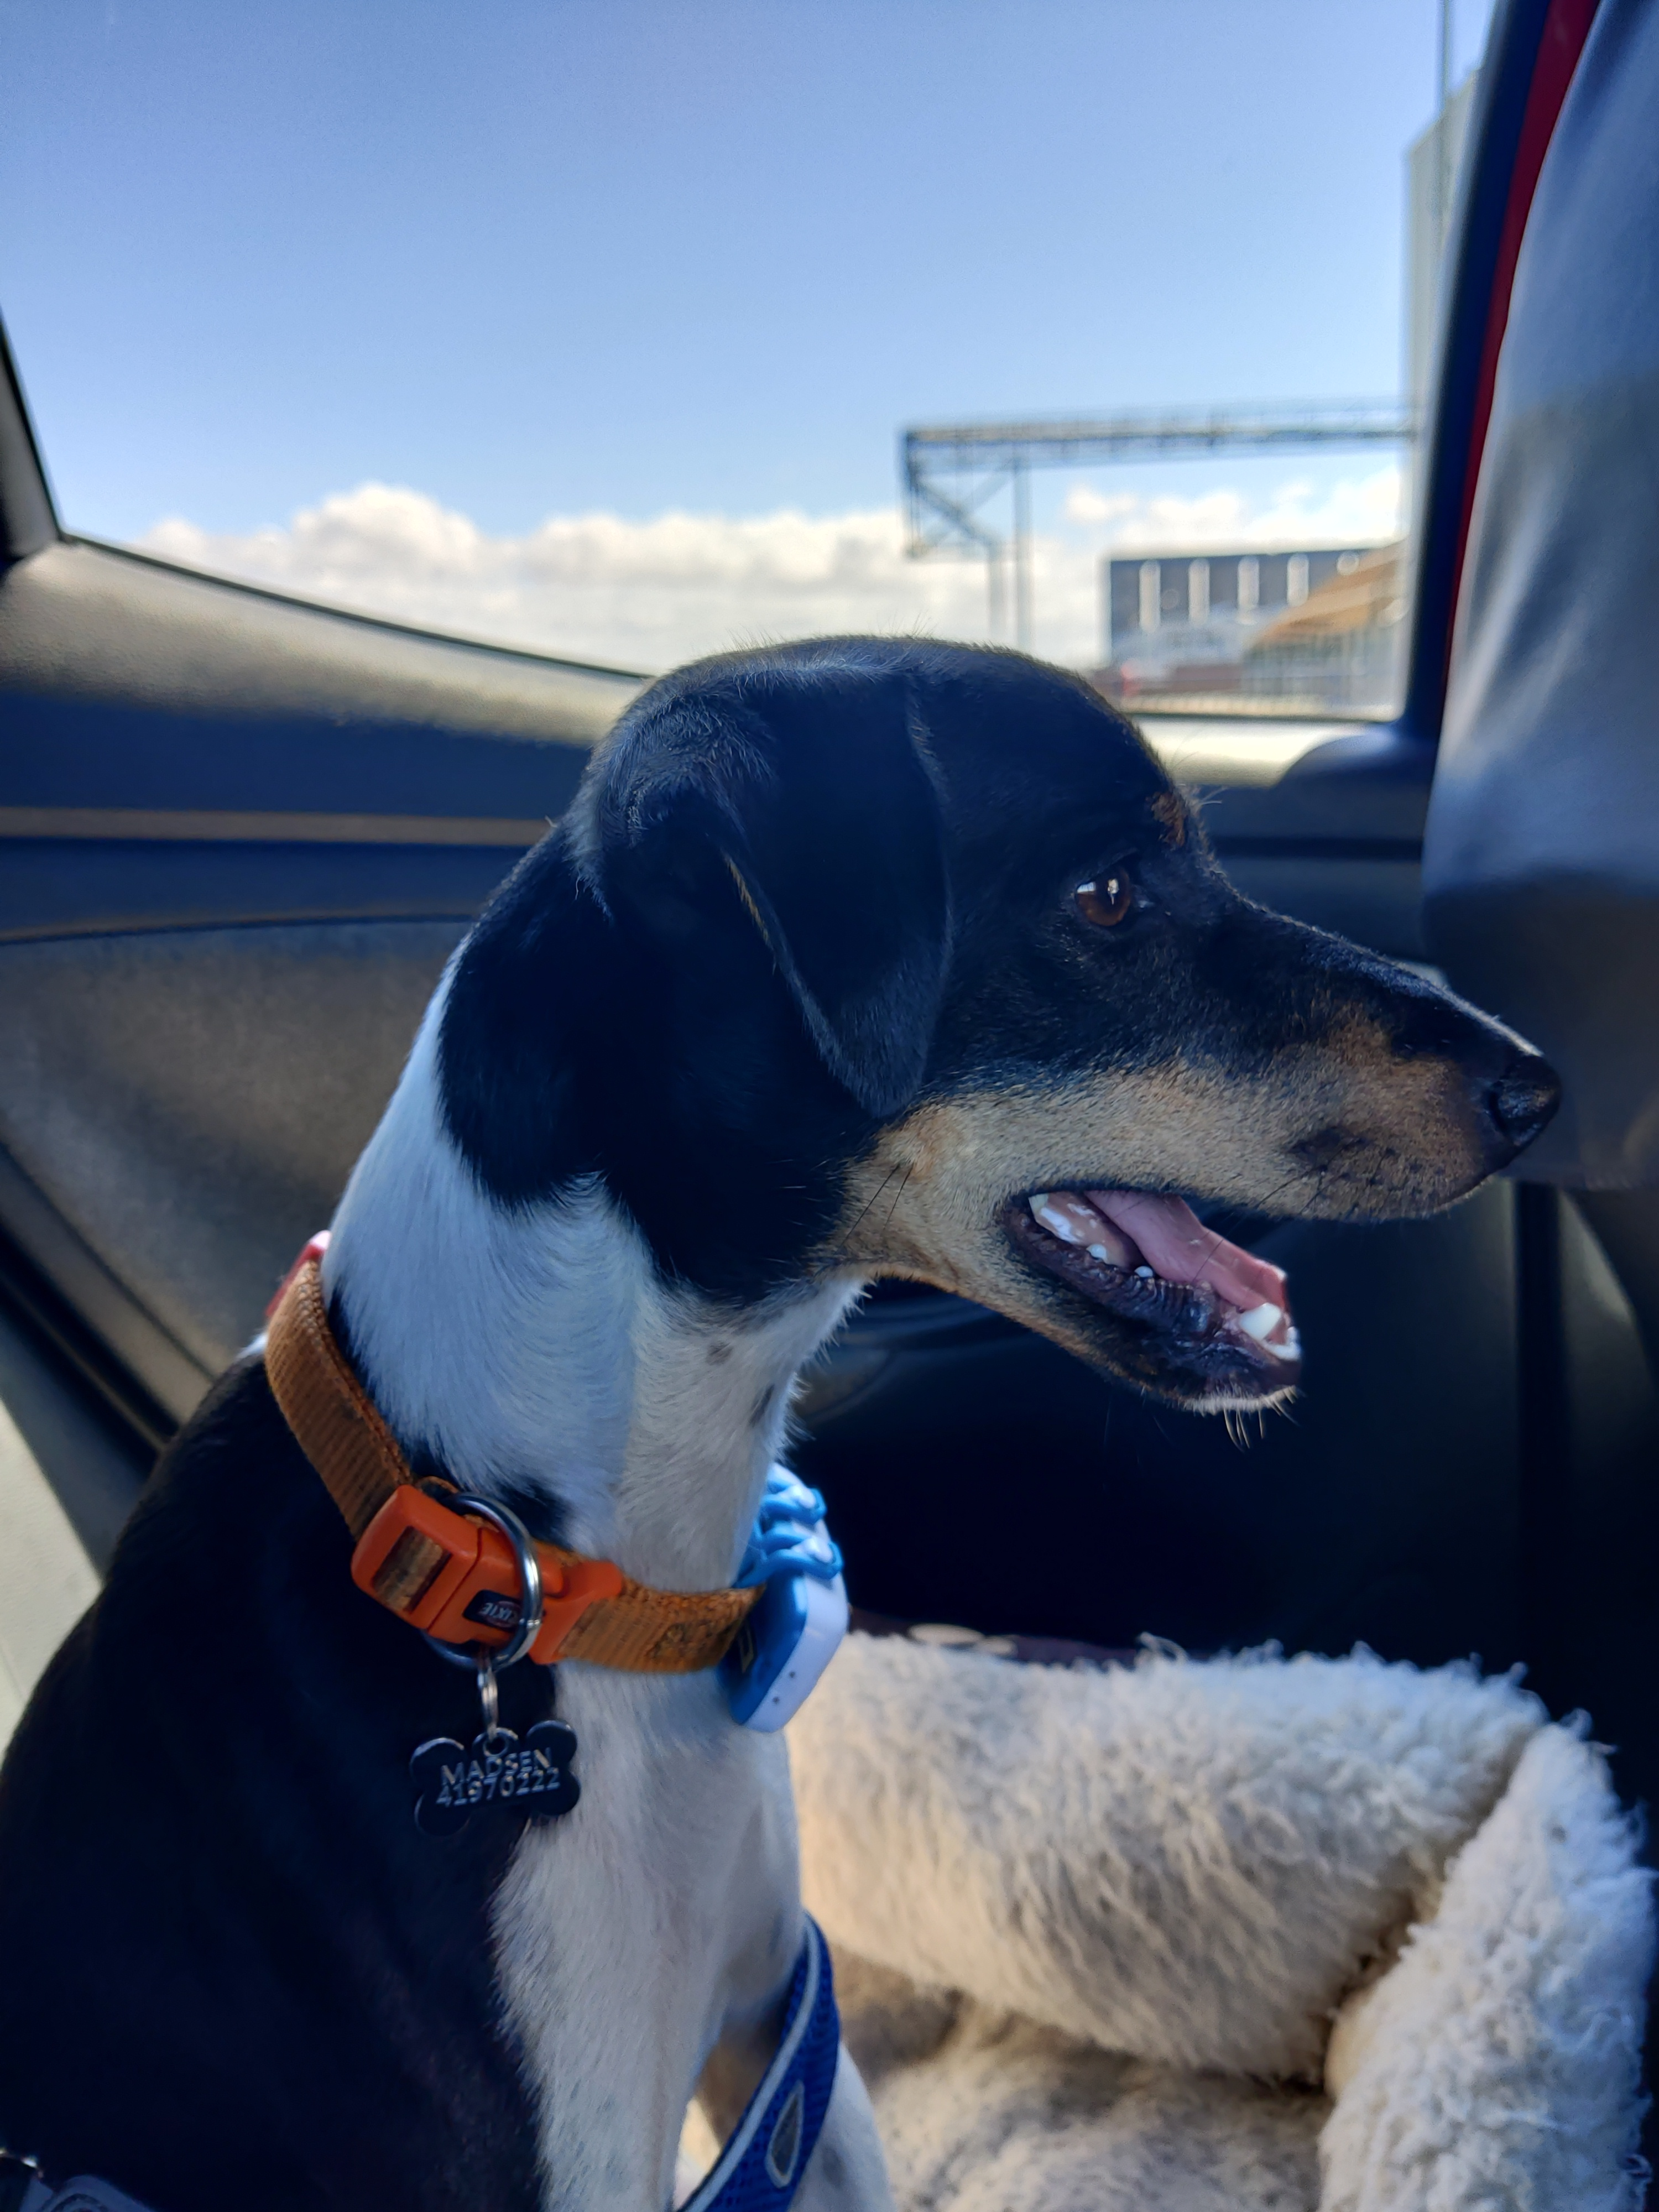Dog: (0, 611, 1581, 2212)
